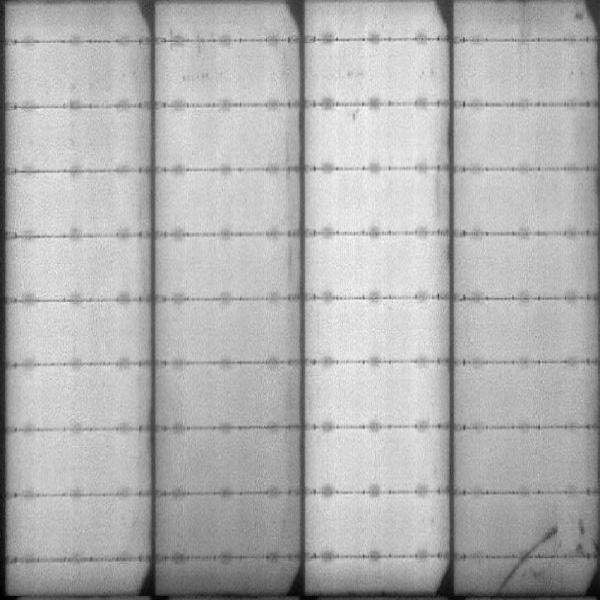scratch: (493, 525, 557, 586)
